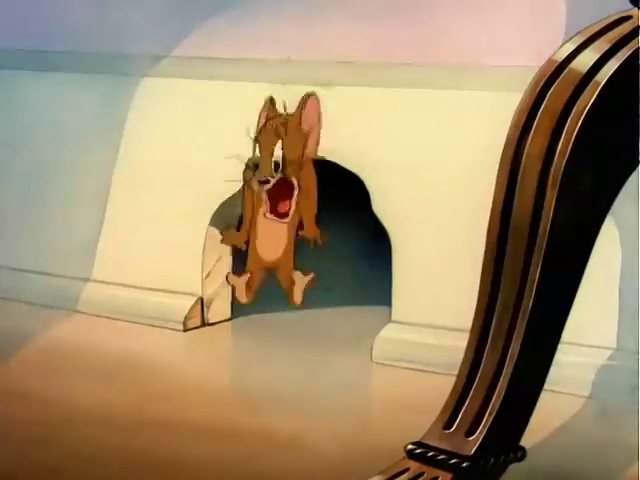jerry: (186, 94, 354, 317)
